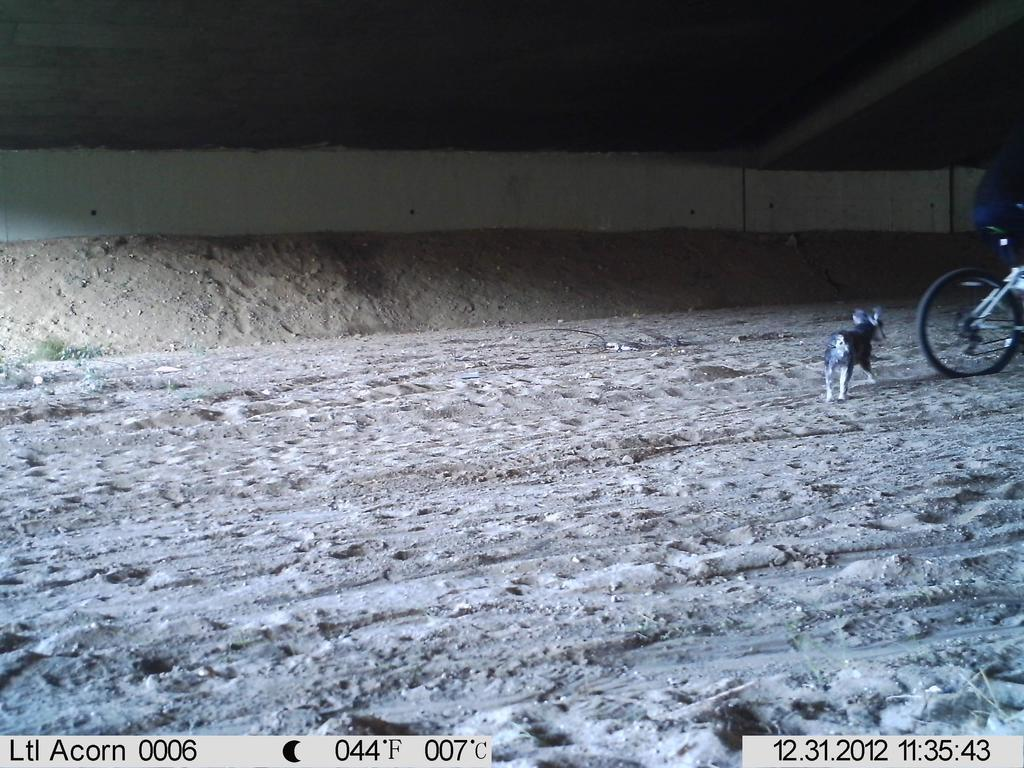dog: (804, 300, 894, 413)
